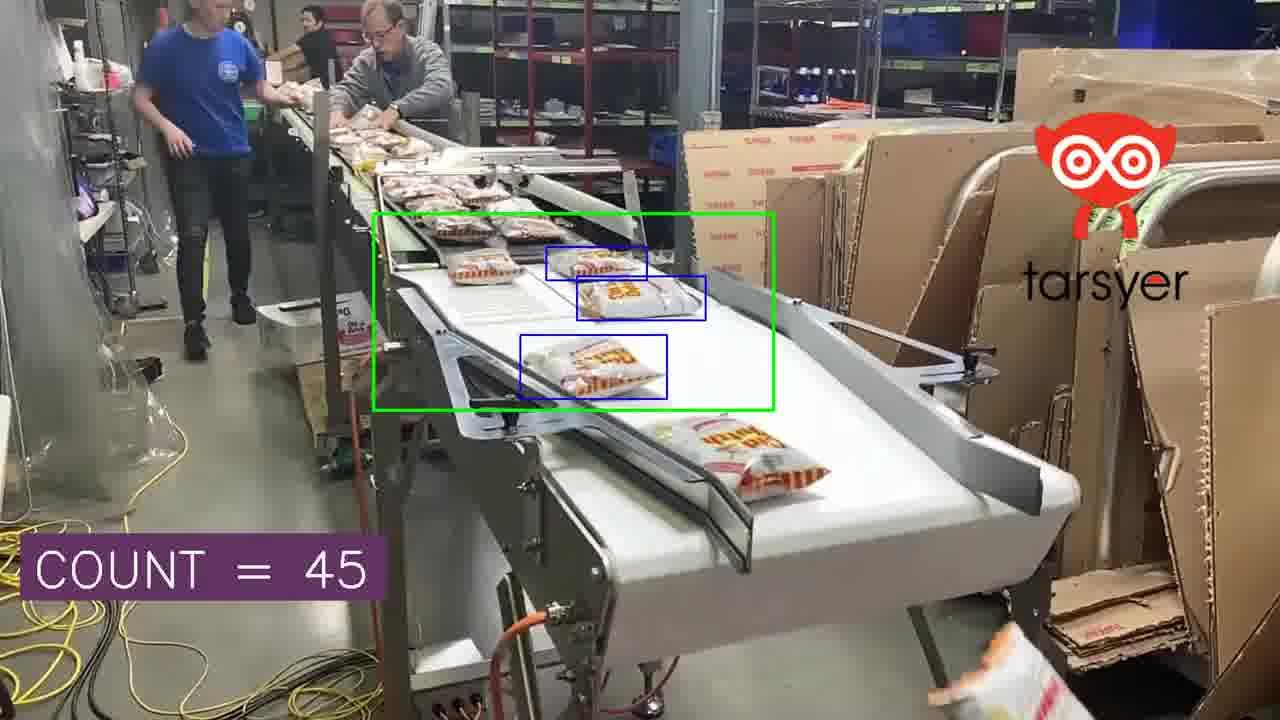Snack: (929, 623, 1094, 719), (651, 415, 830, 502), (522, 335, 666, 400), (575, 274, 706, 320), (406, 196, 495, 243), (487, 197, 568, 242), (445, 247, 535, 287), (547, 247, 647, 279), (382, 175, 460, 206), (439, 176, 509, 209)
